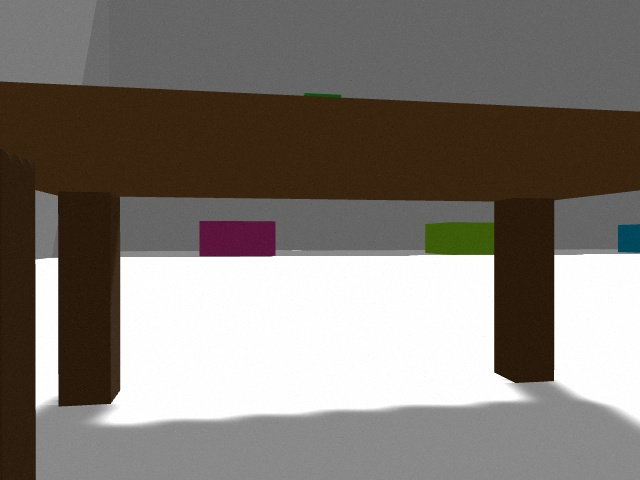blue_drop_zone: (618, 224, 640, 253)
green_drop_zone: (425, 222, 494, 255)
red_drop_zone: (199, 221, 276, 256)
